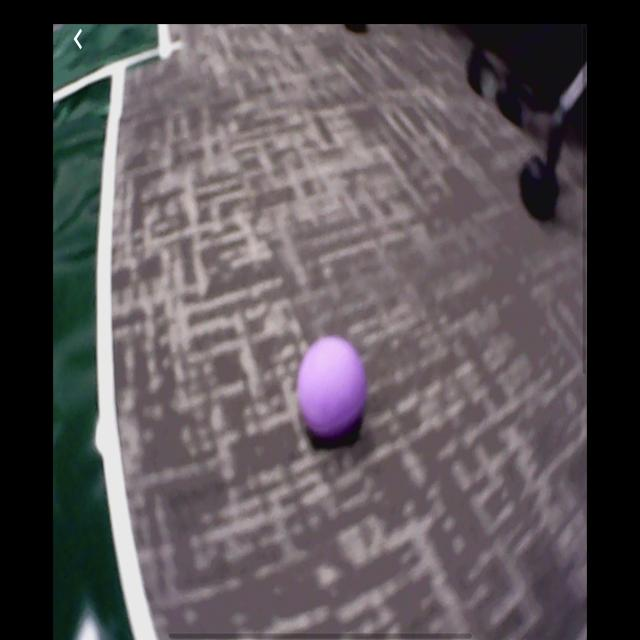ball: (297, 334, 369, 448)
